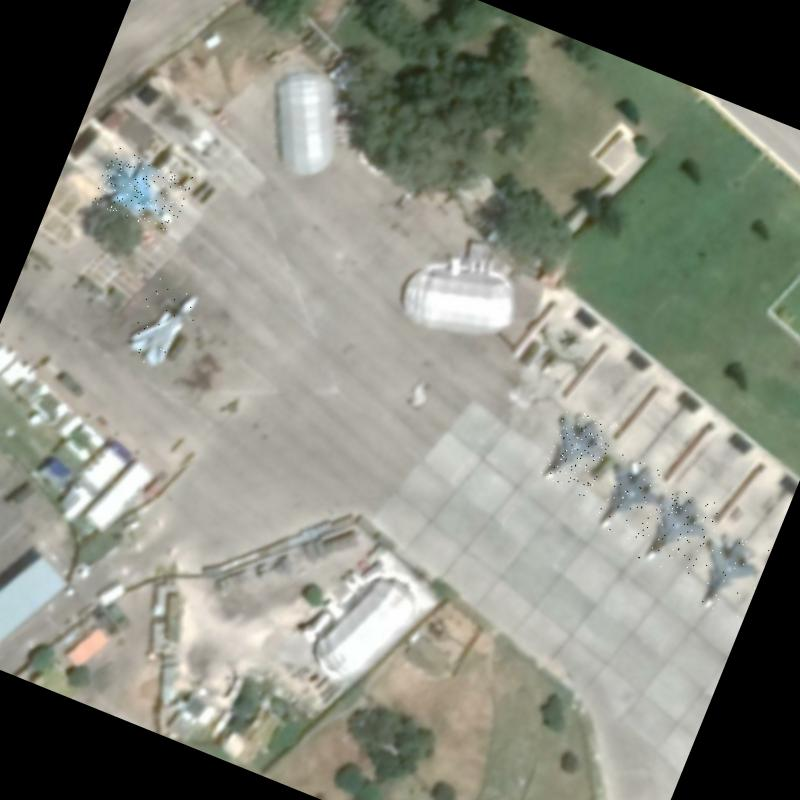A19: (90, 144, 194, 235), (685, 525, 770, 624), (636, 481, 720, 578), (538, 406, 618, 498), (591, 452, 670, 544)
A20: (123, 275, 204, 375)
